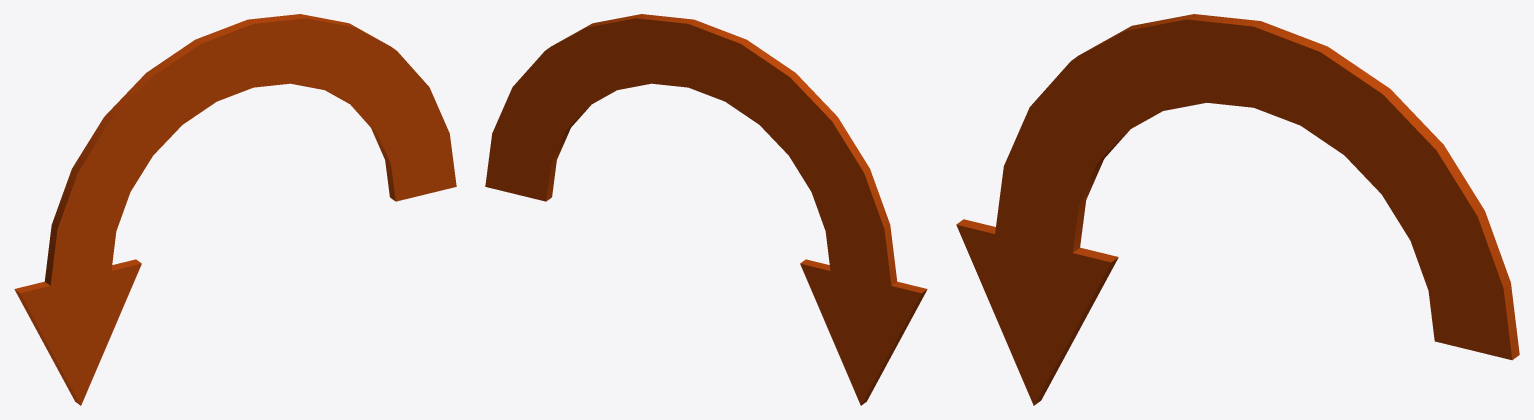
The model's file is arrow_left_1.fbx.
3 views of the same model, side by side, from view 1: azimuth 30°, elevation 25°; view 2: azimuth 150°, elevation 25°; view 3: azimuth 330°, elevation 25° (orthographic). The views are drawn at different scales.
Visible parts, largest first — view 1: Group1; view 2: Group1; view 3: Group1.
Part boxes in pixels (bbox=[...]): Group1: bbox=[14, 14, 456, 405]; Group1: bbox=[485, 14, 927, 405]; Group1: bbox=[956, 14, 1519, 405].
Bounding box in the file's own units: 1.08 × 0.8 × 0.025.
